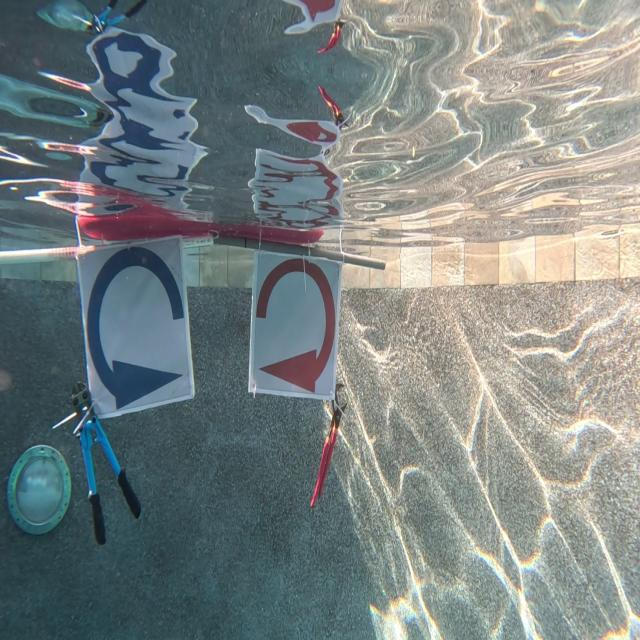blue_side: (77, 246, 192, 404)
red_side: (252, 252, 338, 398)
